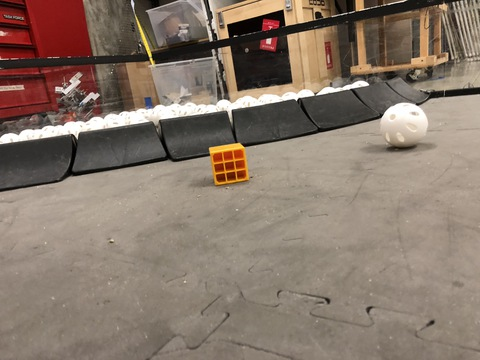ball: (375, 104, 432, 149)
block: (199, 143, 256, 189)
